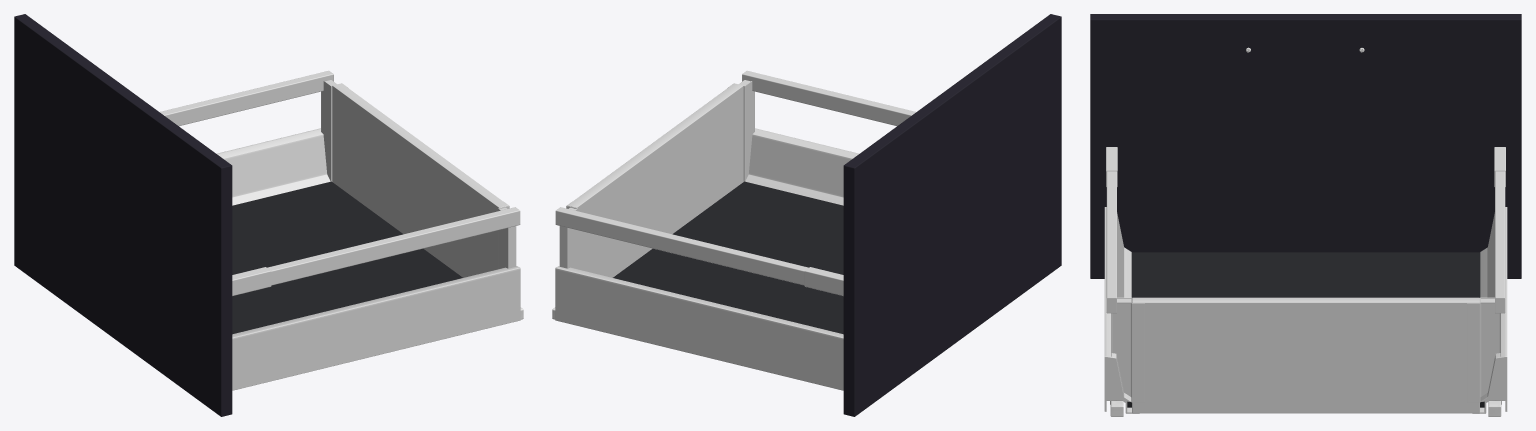
The model's file is SM_Kitchen_05_Drawer_03.dae.
3 views of the same model, side by side, from view 1: azimuth 30°, elevation 25°; view 2: azimuth 150°, elevation 25°; view 3: azimuth 270°, elevation 25° (orthographic). The views are drawn at different scales.
Parts seen in each view (by area): view 1: SM_Kitchen_05_Base_Drawer_03; view 2: SM_Kitchen_05_Base_Drawer_03; view 3: SM_Kitchen_05_Base_Drawer_03.
Part boxes in pixels (box(x1,y1,x2,y2)): SM_Kitchen_05_Base_Drawer_03: box(14, 14, 523, 416); SM_Kitchen_05_Base_Drawer_03: box(552, 14, 1061, 416); SM_Kitchen_05_Base_Drawer_03: box(1090, 14, 1521, 416).
Size of the model in its own units: 0.5199 by 0.5969 by 0.396.
Materials: 4 (4 with a texture image).
